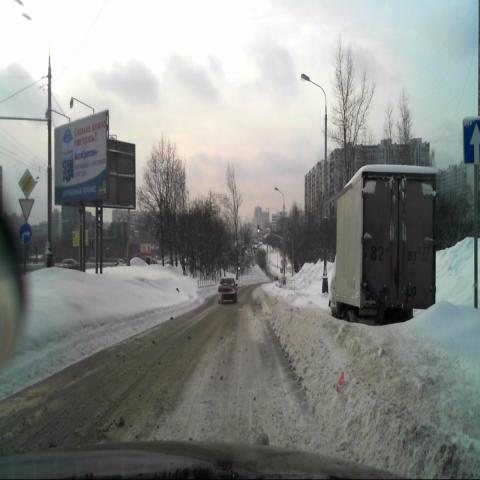2_2: (18, 166, 36, 196)
2_4: (18, 198, 34, 222)
4_1_2: (20, 224, 31, 246)
